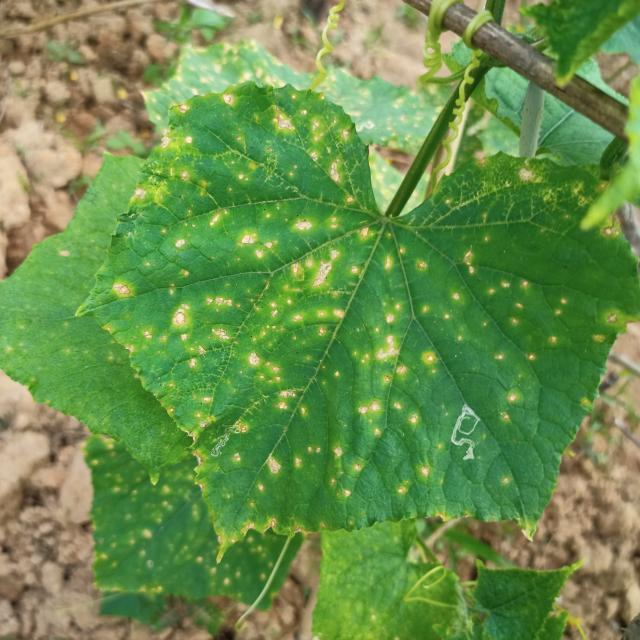disease_cucumber: (137, 95, 561, 531)
